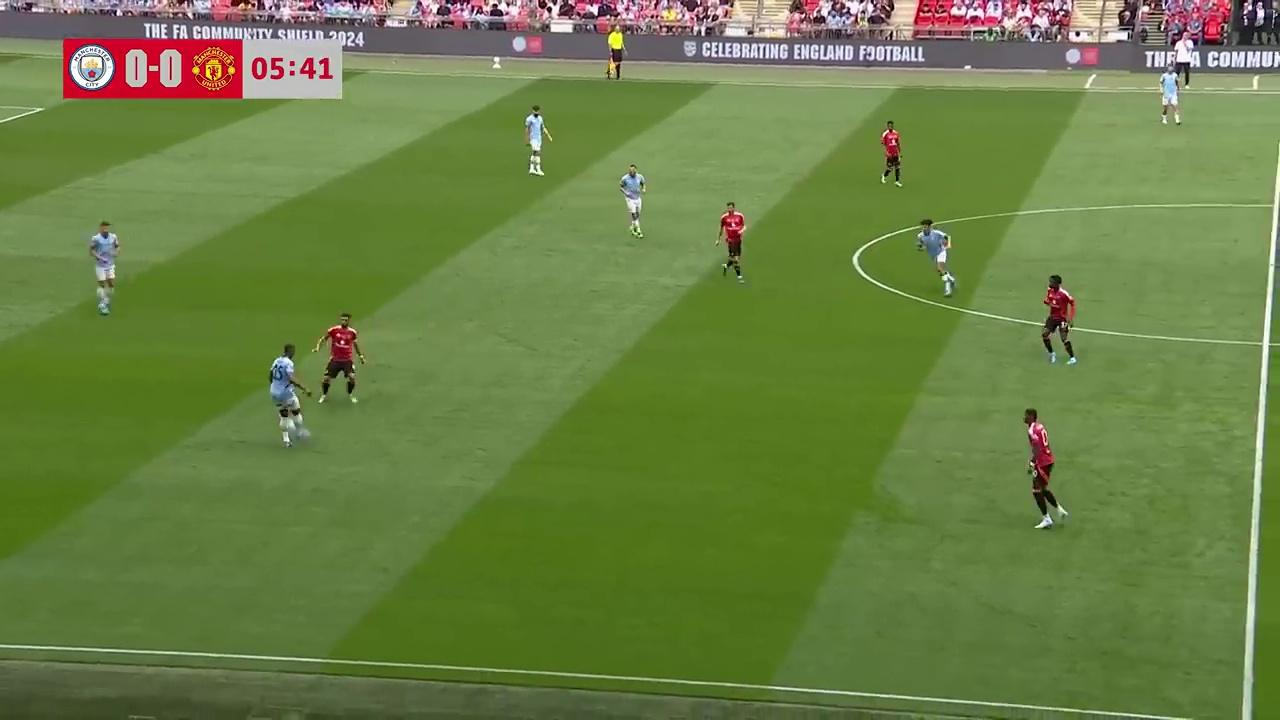ball: (298, 426, 313, 441)
player: (1024, 407, 1069, 529), (312, 310, 367, 404), (268, 343, 312, 448), (1040, 275, 1076, 366), (915, 218, 955, 295), (88, 220, 120, 315), (715, 200, 748, 283), (618, 163, 647, 238), (524, 104, 553, 176), (880, 120, 902, 187), (1157, 69, 1181, 126)
referee: (605, 23, 626, 81)
